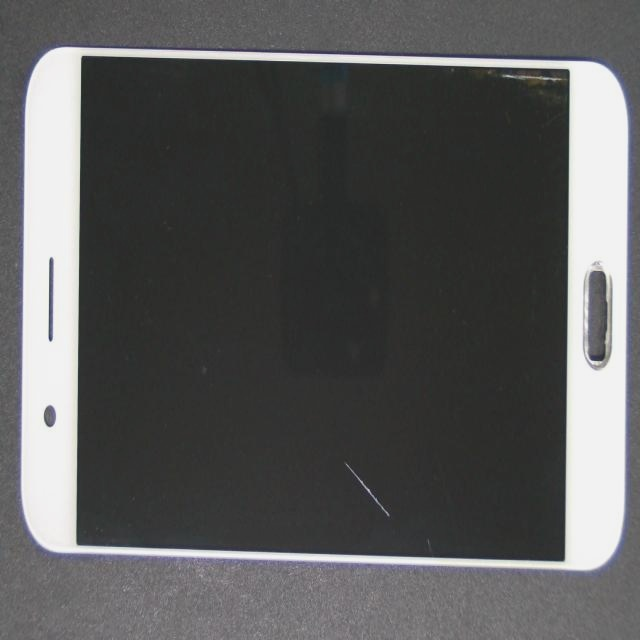scratch: (235, 286, 574, 640)
